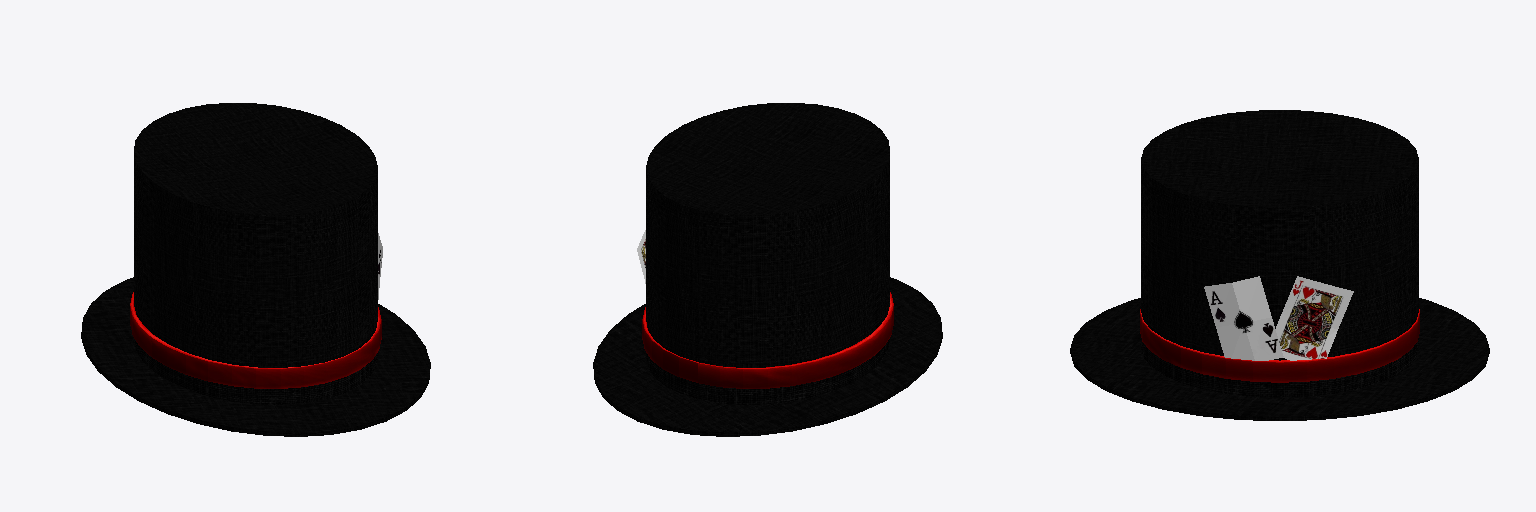
3 renders of one model, left to right at view 1: azimuth 30°, elevation 25°; view 2: azimuth 150°, elevation 25°; view 3: azimuth 270°, elevation 25°, orthographic.
Bounding box in the file's own units: 22.33 × 14.78 × 28.97.
Materials: 1 (1 with a texture image).